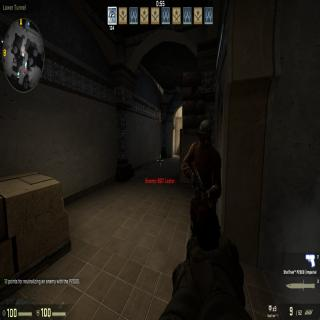T-Body: (182, 111, 224, 247)
T-Head: (195, 116, 215, 152)
